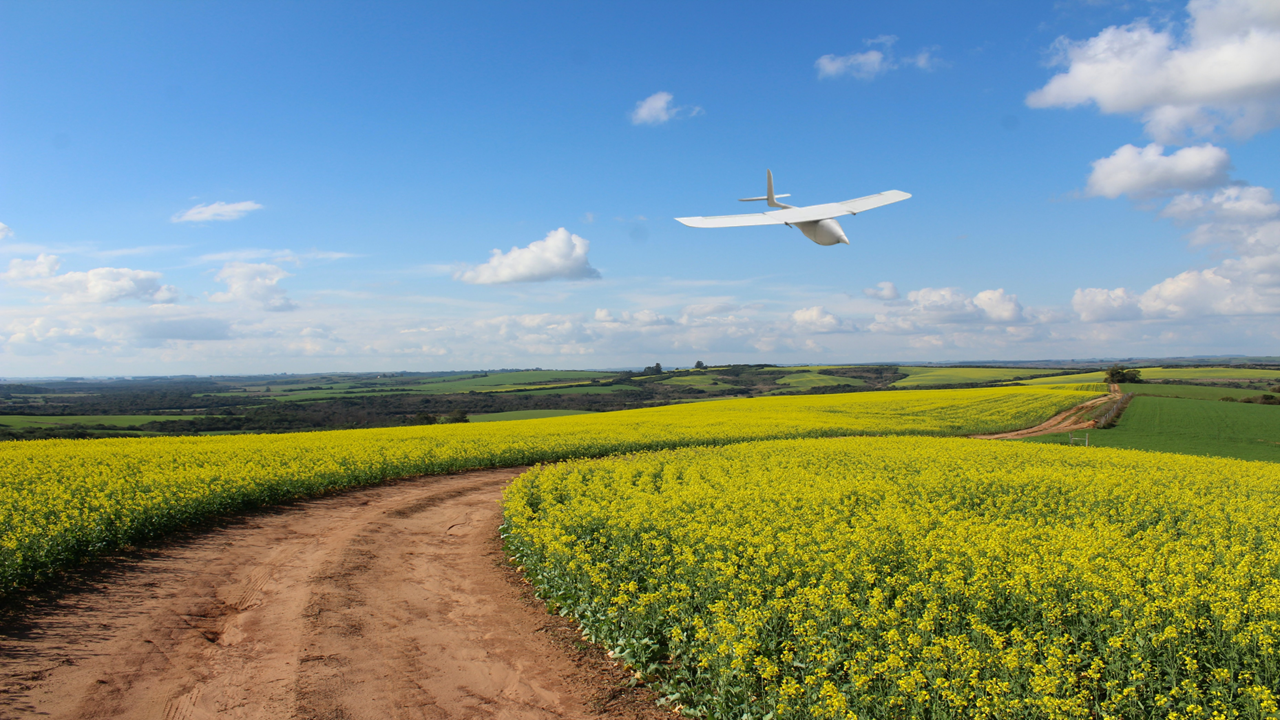military drone: (673, 168, 912, 245)
